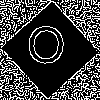O: (25, 25, 67, 74)
